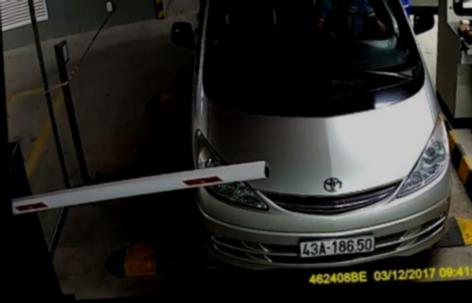License_Plate: (299, 232, 377, 259)
